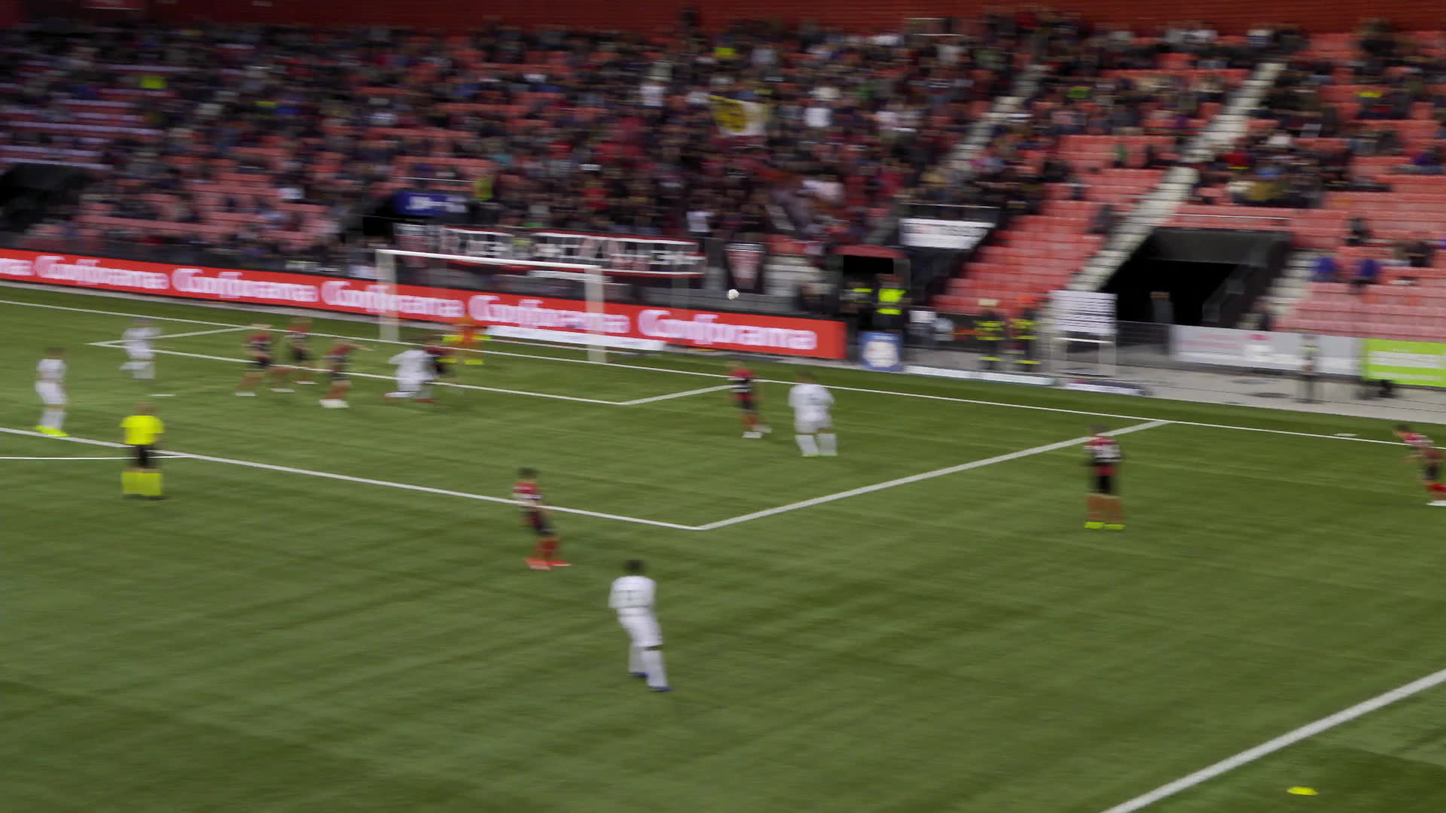ball: (727, 289, 738, 300)
player: (580, 556, 642, 692), (479, 464, 536, 568), (1057, 429, 1103, 529), (764, 367, 814, 456), (1391, 427, 1445, 506), (208, 317, 256, 396), (701, 358, 743, 437), (355, 343, 412, 401), (290, 337, 334, 410), (8, 344, 42, 436), (394, 337, 438, 398), (249, 317, 286, 386), (422, 305, 465, 363), (106, 317, 145, 376)
referee: (119, 400, 165, 502)
